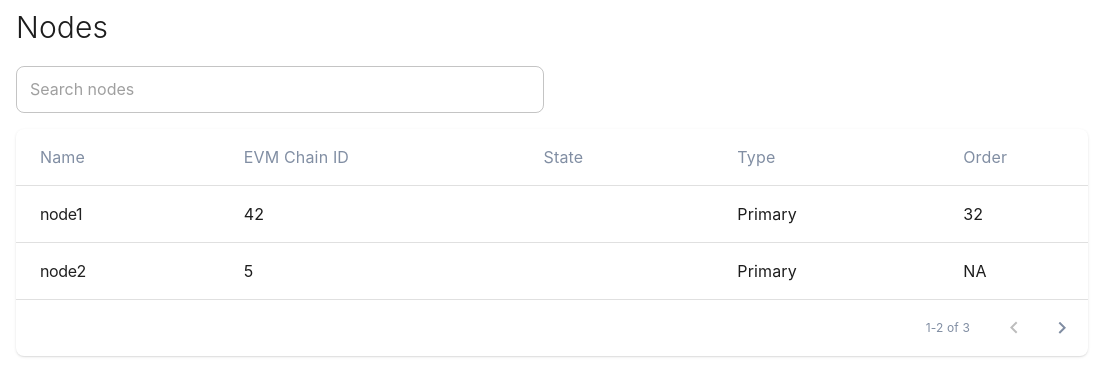
Test: NodesScreen › can page through the list of nodes
Expected: the text "node1" is shown, x1=40 y1=202 x2=82 y2=226
Expected: the text "node2" is shown, x1=40 y1=260 x2=86 y2=283
Click the button named "next-page" at [1062, 328], box x1=1038 y1=304 x2=1086 y2=352
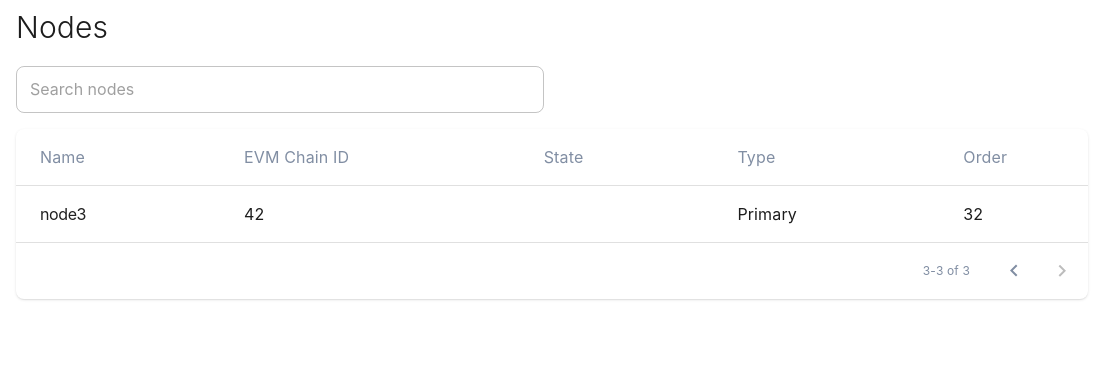
Expected: the text "node3" is shown, x1=40 y1=202 x2=86 y2=226
Expected: the text "3-3 of 3" is shown, x1=923 y1=261 x2=970 y2=281
Expected: the button named "next-page" is disabled, x1=1038 y1=247 x2=1086 y2=295
Click the button named "prev-page" at [1014, 271], box x1=990 y1=247 x2=1038 y2=295
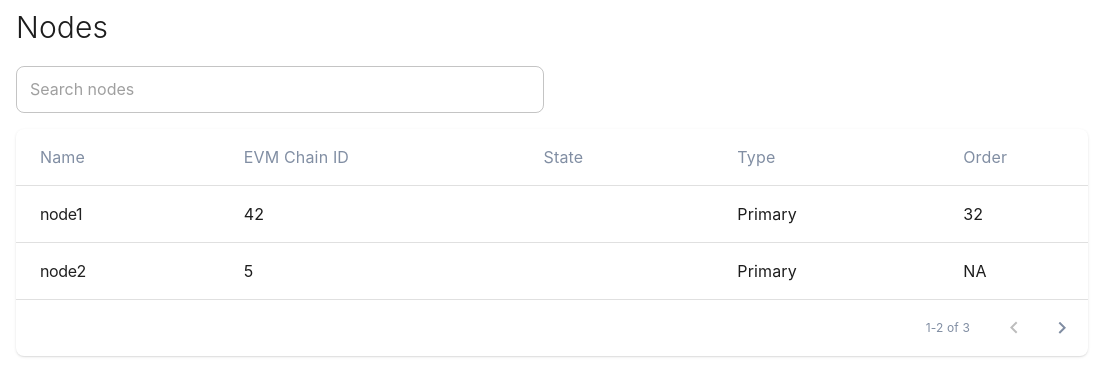
Expected: the text "node1" is shown, x1=40 y1=202 x2=82 y2=226
Expected: the text "node2" is shown, x1=40 y1=260 x2=86 y2=283
Expected: the text "1-2 of 3" is shown, x1=926 y1=318 x2=970 y2=338
